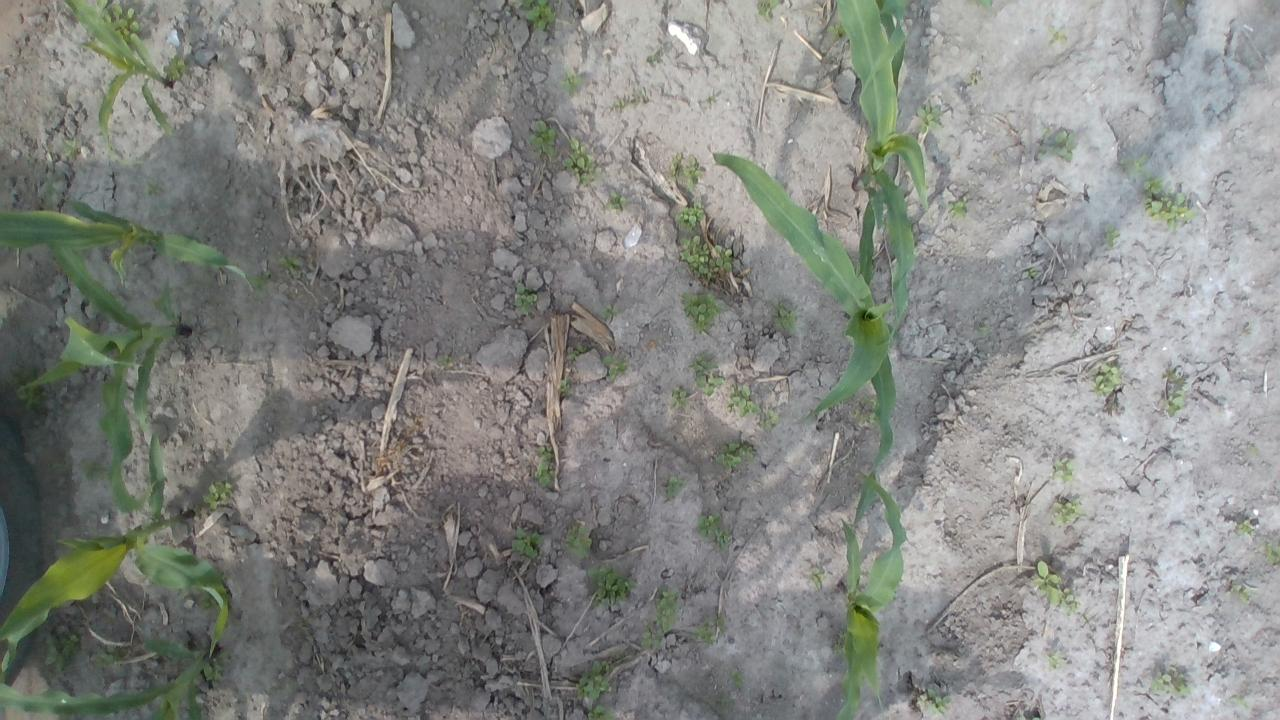Maize: (712, 150, 898, 529), (0, 428, 231, 672), (17, 231, 191, 515), (836, 0, 930, 343), (0, 172, 257, 296), (63, 0, 184, 166), (834, 466, 908, 720), (0, 637, 222, 720)
Weeds: (1143, 176, 1197, 230), (678, 235, 736, 280), (1031, 560, 1079, 612), (586, 566, 638, 608), (680, 290, 724, 334), (96, 0, 140, 44), (562, 138, 601, 185), (576, 659, 616, 700), (688, 354, 725, 397), (44, 634, 82, 672), (12, 369, 48, 408), (668, 155, 706, 191), (1088, 362, 1125, 398), (692, 610, 729, 646), (1150, 666, 1192, 696), (1162, 370, 1188, 418), (1049, 495, 1088, 527), (654, 586, 681, 632), (526, 119, 558, 157), (716, 442, 758, 470), (1040, 130, 1074, 164), (726, 386, 760, 418), (699, 515, 730, 549), (849, 395, 883, 426), (563, 525, 593, 559), (522, 0, 556, 29), (512, 526, 542, 558), (202, 480, 234, 509), (162, 52, 192, 82), (674, 200, 706, 228), (916, 100, 944, 132), (919, 688, 951, 714), (94, 645, 130, 668), (613, 88, 649, 111), (535, 445, 554, 487), (513, 283, 537, 316), (603, 355, 632, 380), (602, 188, 628, 214), (246, 270, 273, 295), (1052, 455, 1076, 483), (202, 591, 234, 611), (661, 476, 686, 501), (774, 308, 799, 332), (944, 195, 970, 218), (641, 622, 662, 650), (84, 459, 112, 480), (1233, 583, 1258, 604), (831, 630, 850, 657), (559, 70, 581, 93), (809, 566, 828, 591), (278, 256, 304, 274), (824, 22, 848, 40), (758, 0, 783, 17), (1049, 25, 1068, 47), (1126, 153, 1144, 176), (202, 664, 225, 682), (1263, 542, 1280, 566), (62, 138, 82, 158), (588, 705, 614, 720), (760, 410, 779, 430), (670, 389, 687, 410), (566, 345, 586, 361), (646, 45, 663, 63), (1236, 520, 1256, 535), (1046, 654, 1066, 669), (602, 304, 618, 322), (144, 180, 162, 196), (559, 379, 574, 398), (1104, 231, 1120, 247), (1232, 694, 1249, 708), (730, 670, 744, 687), (716, 698, 732, 712), (975, 0, 993, 11), (1026, 266, 1040, 280), (976, 325, 992, 337), (964, 73, 980, 84), (438, 355, 454, 366), (1016, 714, 1040, 720), (704, 94, 716, 106)
